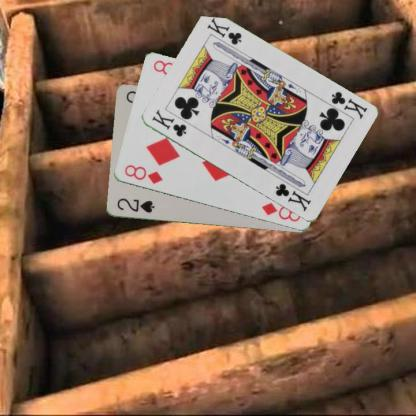2s: (115, 196, 156, 214)
8d: (122, 162, 164, 186)
Kc: (328, 88, 368, 121), (149, 106, 188, 138)
